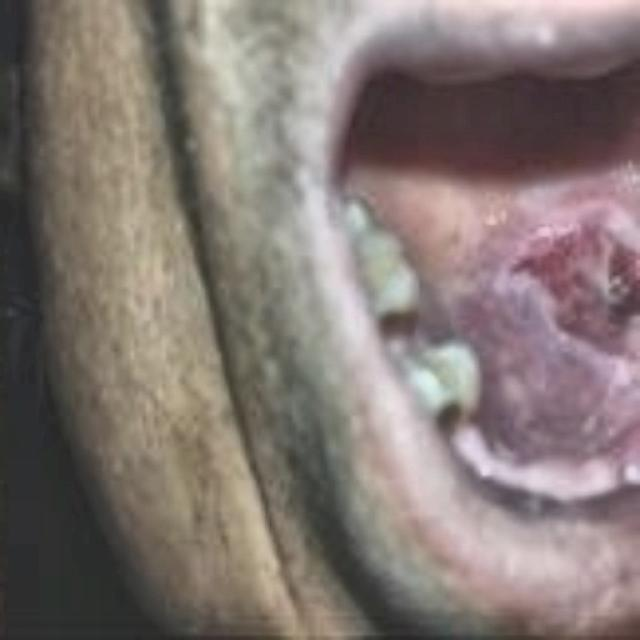cancer-detection: (491, 188, 639, 398)
processing_area: (348, 127, 639, 491)
